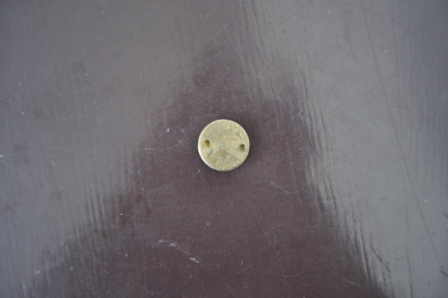METAL PIECE: (197, 118, 252, 171)
